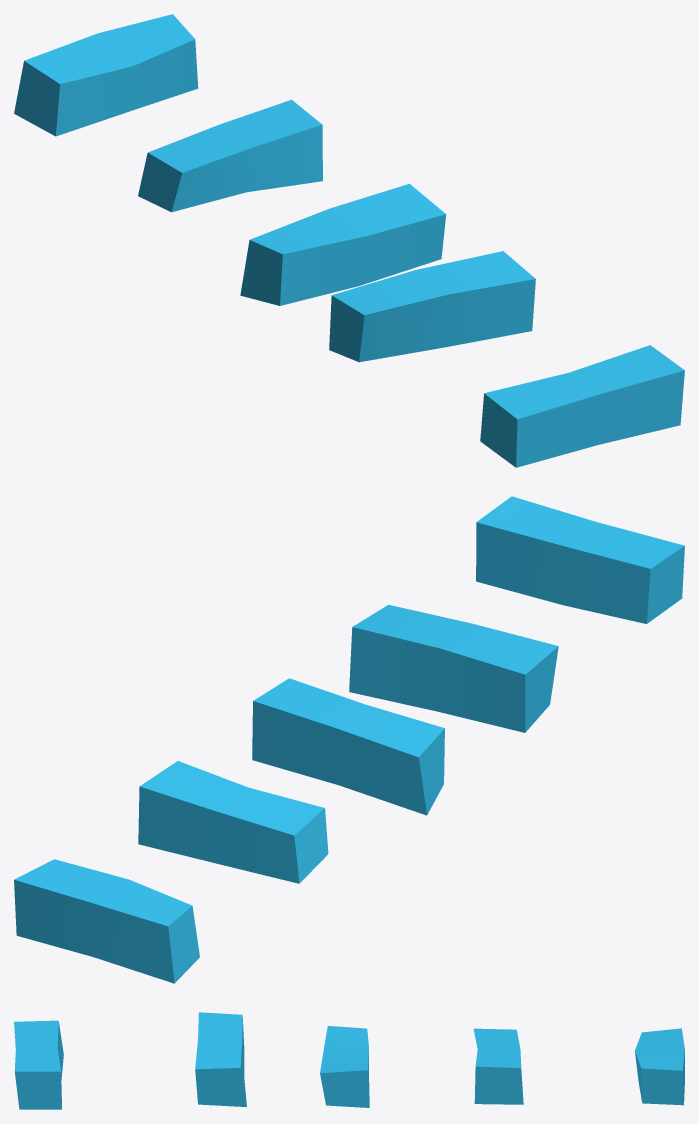
The model's file is Wall_piles.fbx.
3 renders of one model, top to bottom at view 1: azimuth 30°, elevation 25°; view 2: azimuth 150°, elevation 25°; view 3: azimuth 270°, elevation 25°, orthographic. The views are drawn at different scales.
Visible parts, largest first — view 1: Wall_piles; view 2: Wall_piles; view 3: Wall_piles.
Part boxes in pixels (left/top/right/bottom): Wall_piles: left=14, top=14, right=684, bottom=467; Wall_piles: left=14, top=496, right=684, bottom=983; Wall_piles: left=14, top=1012, right=684, bottom=1109.
Size of the model in its own units: 122 by 47.05 by 574.
